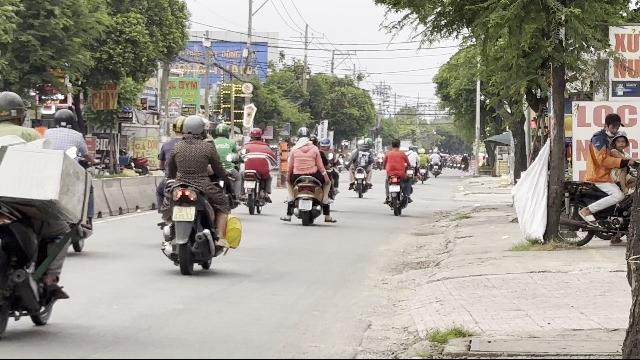helmet: (0, 90, 28, 126), (182, 114, 206, 138), (52, 108, 74, 128)
licenseplate: (173, 207, 194, 221)
motorcyclist: (0, 88, 96, 344), (152, 112, 240, 274)
